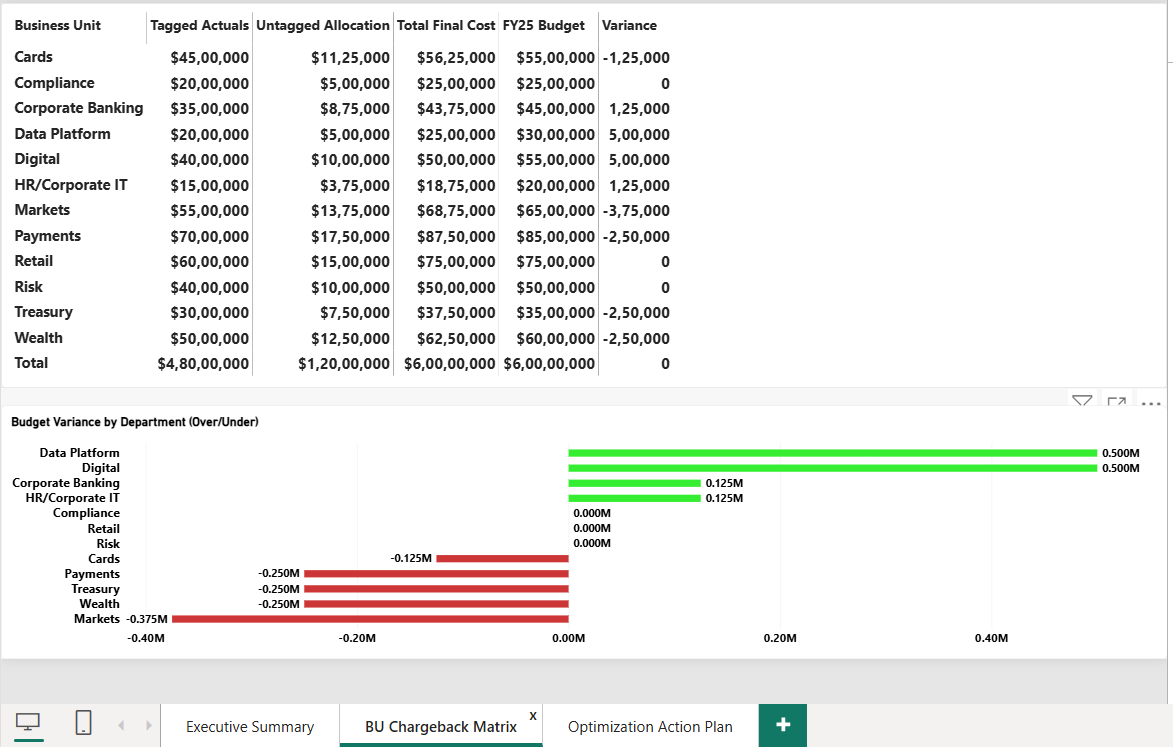

What the dashboard file says about the page in this screenshot:
{"tool":"powerbi","page":{"name":"BU Chargeback Matrix","canvas":[1920,1080],"ordinal":1},"visuals":[{"type":"pivotTable","fields":{"Rows":["2_Chargeback_Variance.Business Unit"],"Values":["Sum(2_Chargeback_Variance.Tagged Actuals)","Sum(2_Chargeback_Variance.Untagged Allocation)","Sum(2_Chargeback_Variance.Total Final Cost)","Sum(2_Chargeback_Variance.FY25 Budget)","Sum(2_Chargeback_Variance.Variance)"]},"box":[0,0,1920.4,634],"z":0},{"type":"clusteredBarChart","title":"Budget Variance by Department (Over/Under)","fields":{"Category":["2_Chargeback_Variance.Business Unit"],"Y":["Sum(2_Chargeback_Variance.Variance)"]},"box":[0,662.8,1920.4,417.8],"z":1000}]}

Visuals, with their boxes on the page's 1920x1080 design canvas (x1, y1, x2, y2). These are canvas units, not pixel positions in the 1173x747 screenshot, which may show the page scaled, cropped or inside an application window:
pivotTable - 2_Chargeback_Variance.Business Unit x Sum(2_Chargeback_Variance.Tagged Actuals): box(0, 0, 1920, 634)
"Budget Variance by Department (Over/Under)" clusteredBarChart: box(0, 663, 1920, 1081)
